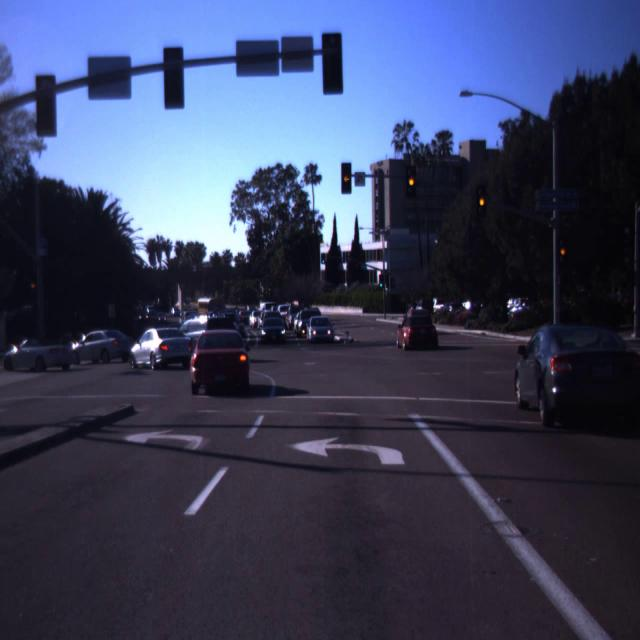arka_lamba: (36, 76, 57, 137), (322, 33, 343, 94), (164, 48, 184, 109)
sari: (341, 162, 352, 195), (476, 185, 486, 218), (406, 165, 416, 197)
